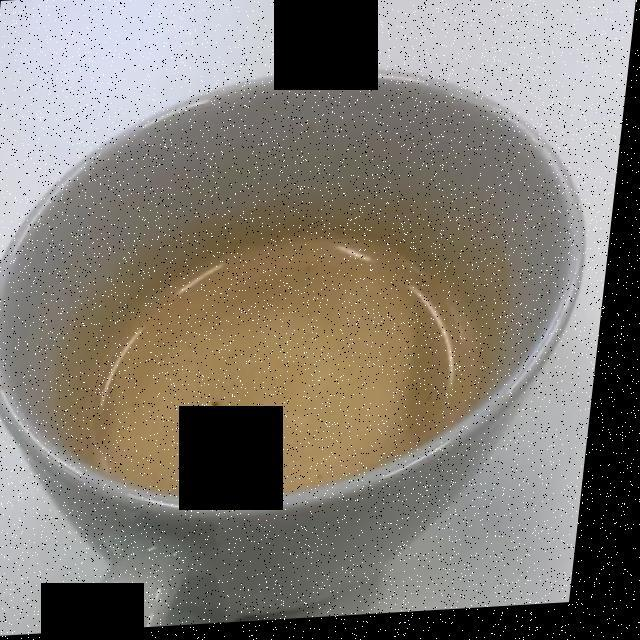coffee: (60, 218, 516, 497)
